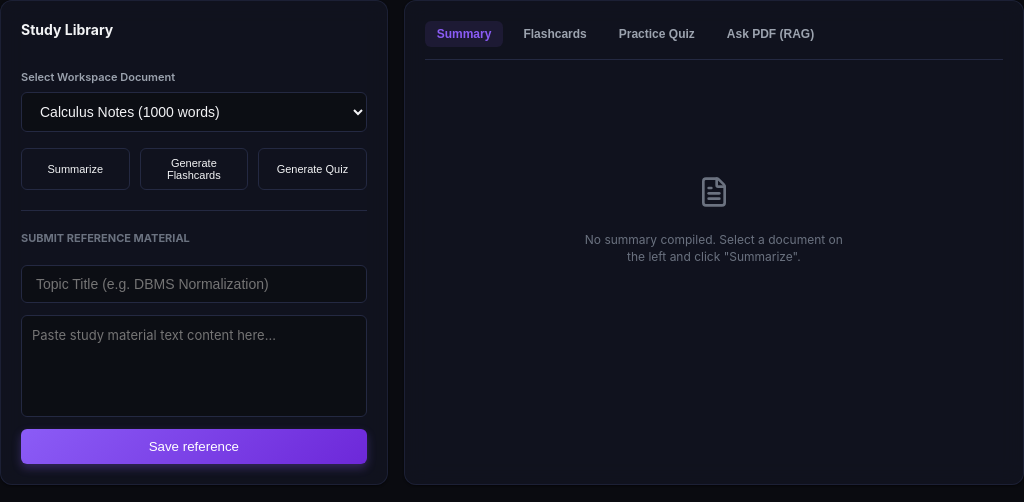
Scenario: DocumentsView › allows analyzing a selected document for flashcards and interactive playing
Select "Calculus Notes (1000 words)" in the dropdown: [194, 112] box [21,92,367,132]
Click the button "Generate Flashcards": [194, 169] box [140,148,248,190]
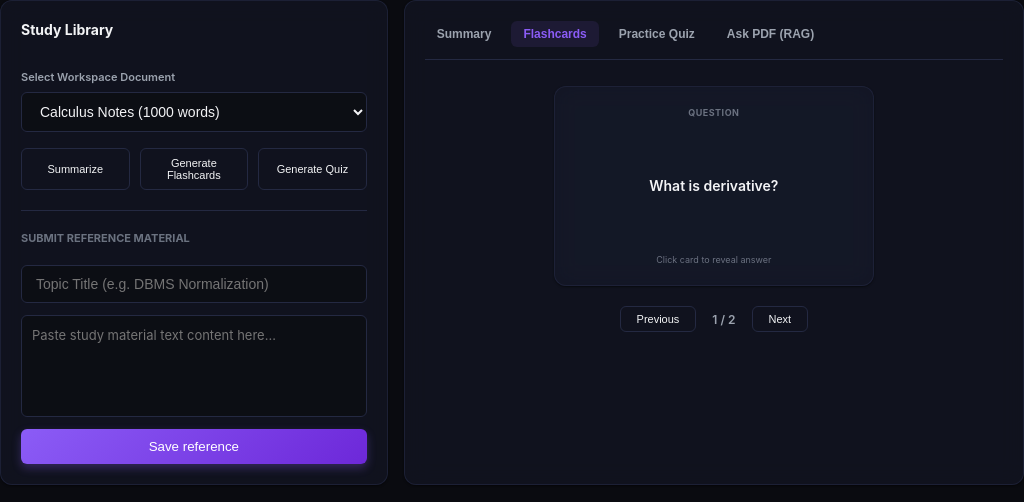
expect the text "What is derivative?" is shown: met
Note: Click card to flip
Click the text "What is derivative?": [714, 186] box [649,176,778,196]
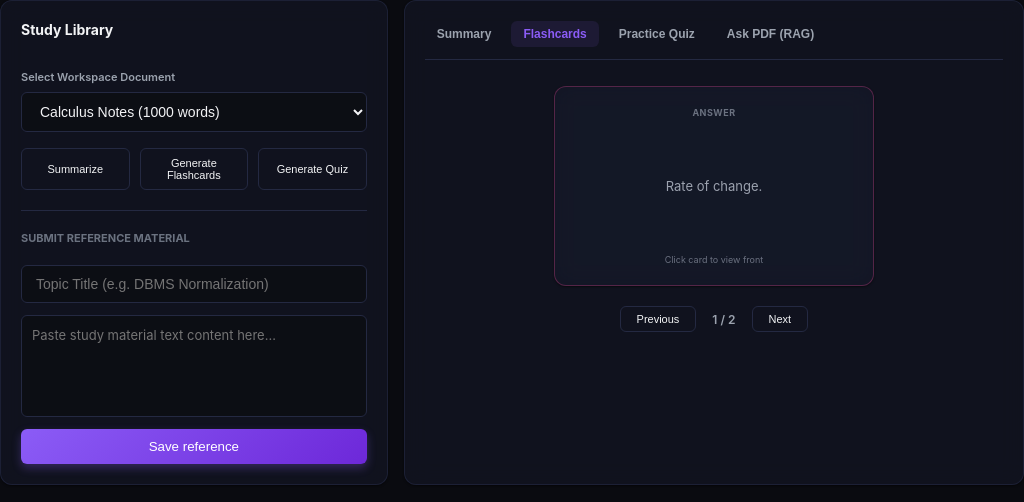
expect the text "Rate of change." is shown: met, box [666,177,762,195]
Note: Click Next
Click the button "Next": [780, 319] box [752,306,808,332]
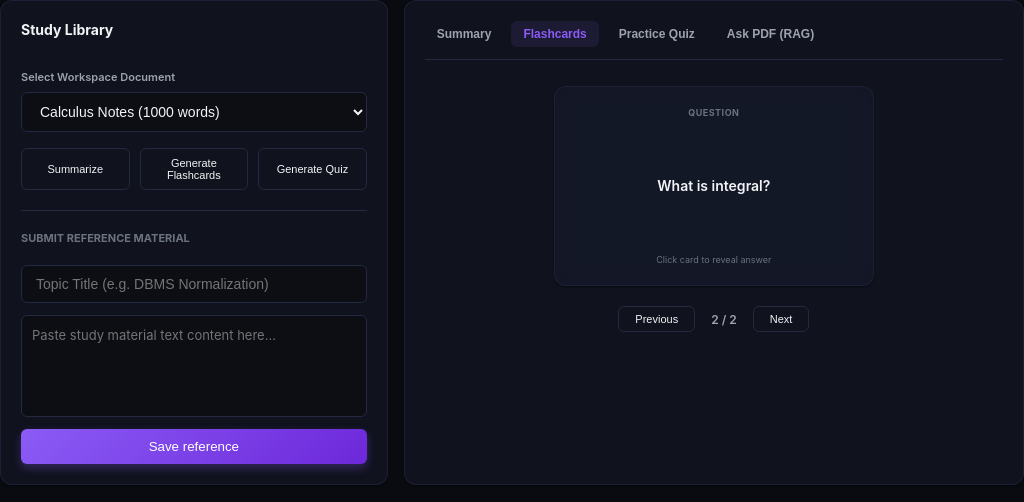
expect the text "What is integral?" is shown: met, box [657,176,770,196]
